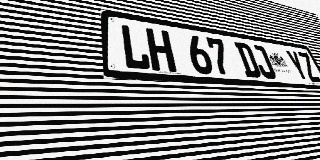6: (185, 34, 215, 75)
7: (205, 37, 234, 76)
D: (234, 42, 262, 78)
H: (146, 28, 177, 72)
J: (250, 44, 278, 79)
L: (120, 24, 151, 71)
Y: (284, 50, 311, 81)
Z: (296, 51, 320, 82)
